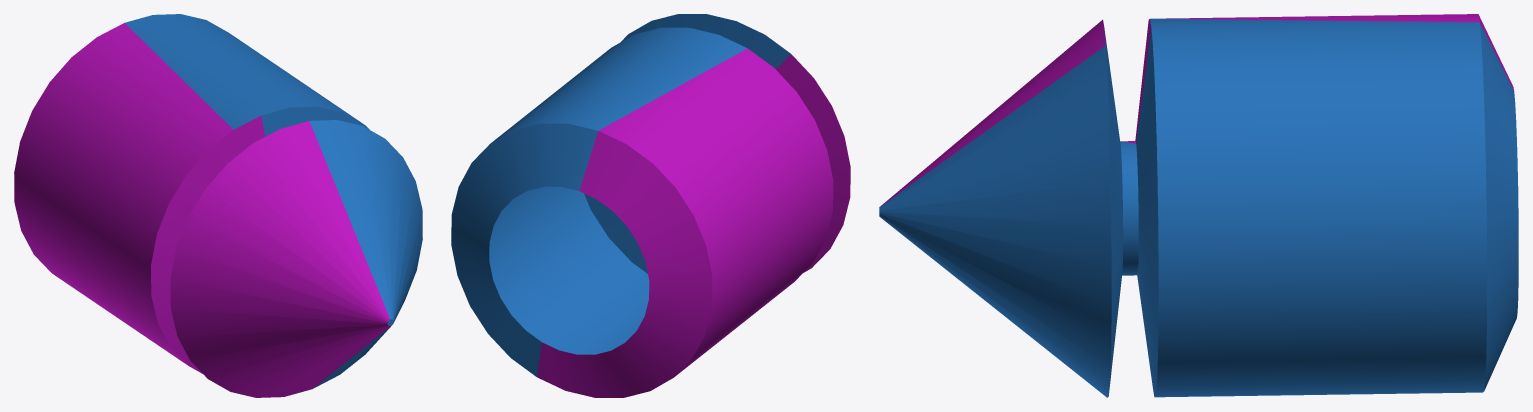
File: RotateThingController.fbx
3 views of the same model, side by side, from view 1: azimuth 30°, elevation 25°; view 2: azimuth 150°, elevation 25°; view 3: azimuth 270°, elevation 25° (orthographic). The views are drawn at different scales.
Parts seen in each view (by area): view 1: stanok-007.014; view 2: stanok-007.014; view 3: stanok-007.014.
Boxes of the visible parts, box(x1,y1,x2,y2) form: stanok-007.014: box(14, 14, 422, 397); stanok-007.014: box(451, 14, 850, 397); stanok-007.014: box(879, 14, 1518, 397).
Size of the model in its own units: 10.15 by 9.82 by 16.61.
